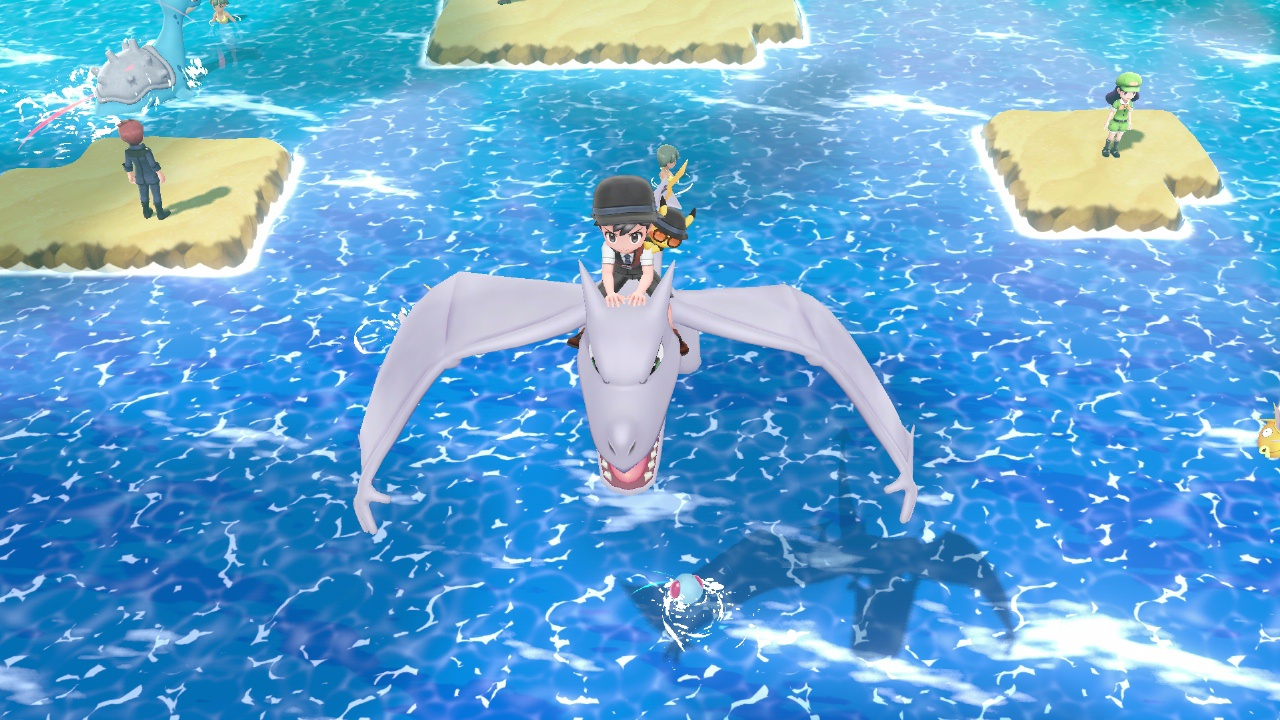Golden: (1256, 402, 1280, 462)
